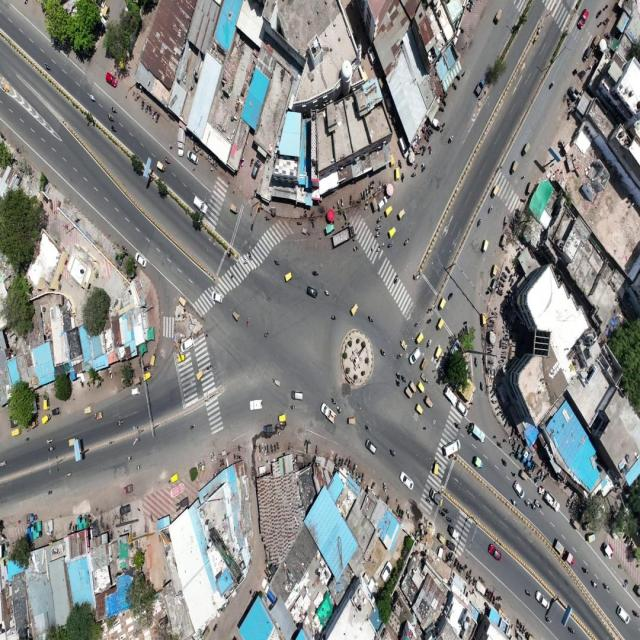3W: (348, 300, 360, 317), (475, 374, 485, 394), (385, 204, 394, 224), (156, 158, 165, 176), (432, 344, 443, 358), (416, 328, 427, 342), (481, 238, 491, 253), (403, 386, 412, 402), (491, 183, 499, 200), (8, 431, 20, 442), (522, 144, 532, 156), (425, 396, 433, 411), (230, 309, 240, 321), (430, 462, 440, 474), (401, 336, 410, 349), (347, 414, 356, 427), (398, 204, 407, 217), (414, 403, 424, 414), (230, 202, 239, 214), (142, 371, 151, 383), (388, 227, 397, 239), (40, 417, 50, 427), (170, 473, 180, 483), (510, 159, 519, 170), (492, 262, 498, 278), (410, 380, 418, 392), (438, 316, 444, 332), (177, 353, 187, 362), (194, 368, 203, 378), (416, 382, 425, 392), (285, 270, 292, 282), (178, 297, 186, 307), (68, 438, 78, 446), (480, 314, 486, 326), (272, 379, 281, 387), (496, 8, 502, 20), (150, 355, 156, 364)
Cars: (438, 432, 460, 458), (193, 192, 210, 216), (615, 601, 631, 624), (457, 391, 469, 420), (444, 383, 458, 405), (534, 589, 549, 609), (248, 398, 264, 416), (487, 543, 501, 563), (179, 336, 194, 354), (104, 74, 118, 93), (134, 250, 147, 270), (400, 471, 414, 489), (578, 9, 590, 29), (513, 479, 525, 497), (365, 439, 378, 453), (410, 348, 421, 364), (187, 150, 200, 163), (307, 284, 319, 298), (212, 291, 224, 304), (291, 390, 305, 400)
LCV: (552, 535, 577, 570), (468, 419, 487, 447), (543, 489, 560, 515), (318, 401, 336, 424), (23, 514, 39, 530), (446, 522, 458, 542), (124, 482, 133, 496), (476, 80, 485, 94)
M2W: (391, 271, 401, 287), (508, 494, 517, 511), (132, 434, 142, 449), (367, 314, 377, 327), (547, 77, 556, 91), (523, 587, 532, 601), (535, 500, 544, 512), (403, 235, 410, 250), (591, 578, 599, 591), (105, 114, 115, 124), (287, 402, 298, 411), (510, 467, 518, 479), (448, 132, 455, 145), (501, 456, 508, 469), (165, 153, 172, 166), (244, 314, 250, 329), (188, 421, 197, 431), (134, 375, 142, 386), (66, 467, 72, 481), (524, 496, 530, 510), (89, 92, 96, 104), (46, 488, 55, 497), (373, 232, 381, 242), (390, 446, 396, 459), (531, 502, 537, 515), (473, 352, 480, 363), (377, 243, 384, 254), (273, 258, 282, 266), (46, 62, 52, 74), (111, 106, 120, 114), (135, 465, 142, 475), (117, 417, 124, 427), (386, 242, 393, 252), (336, 401, 343, 411), (476, 218, 483, 228), (396, 351, 403, 361), (402, 373, 408, 384), (46, 434, 52, 445), (488, 206, 493, 219), (125, 454, 133, 462), (248, 252, 255, 261), (324, 287, 329, 299), (311, 269, 317, 279), (571, 68, 577, 78), (375, 223, 381, 233), (330, 396, 336, 406), (264, 328, 269, 340), (396, 368, 401, 380), (603, 582, 609, 592), (47, 446, 57, 452), (395, 380, 403, 387), (582, 567, 590, 574), (380, 347, 386, 356), (206, 363, 212, 372), (364, 423, 370, 432), (472, 338, 478, 346), (332, 311, 336, 321), (353, 245, 358, 252)
Truck: (328, 225, 357, 252)
